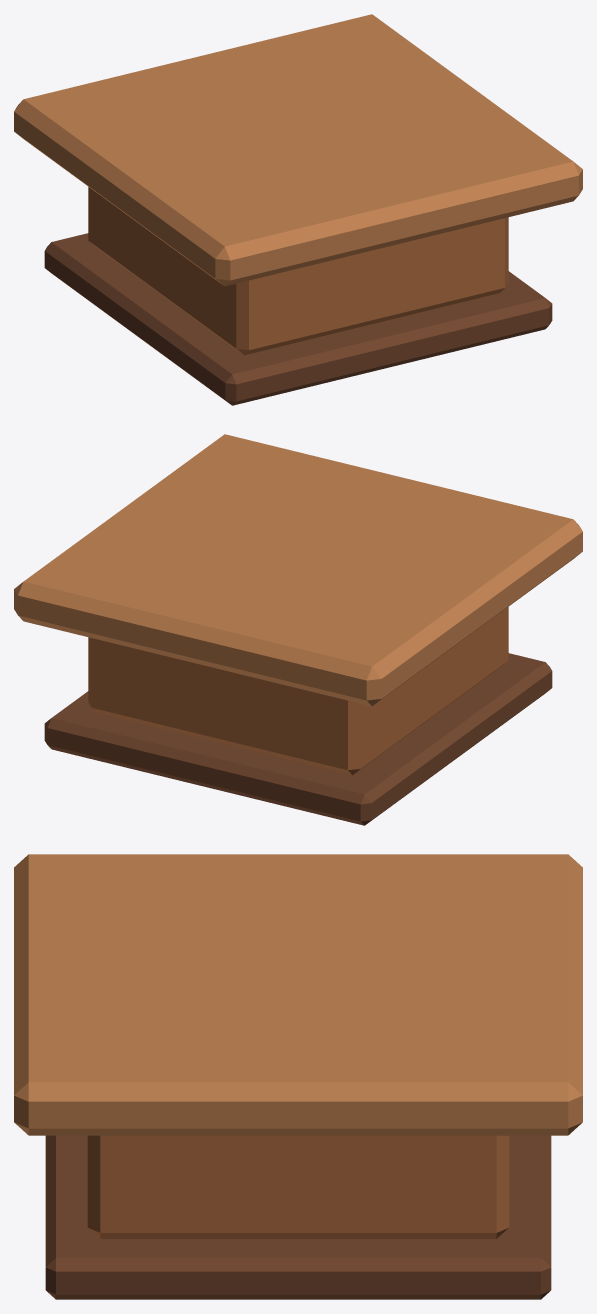
Rendered from Lodge_SpecimenPedestal.fbx.
3 views of the same model, one above another, from view 1: azimuth 30°, elevation 25°; view 2: azimuth 150°, elevation 25°; view 3: azimuth 270°, elevation 25° (orthographic). The views are drawn at different scales.
Visible parts, largest first — view 1: Top, FnWood, FnWoodDark; view 2: Top, FnWood, FnWoodDark; view 3: Top, FnWood, FnWoodDark.
Boxes of the visible parts, x1,y1,x2,y2 form: Top: (14, 14, 582, 286); FnWood: (88, 187, 508, 355); FnWoodDark: (44, 233, 552, 405); Top: (14, 434, 582, 706); FnWood: (88, 607, 508, 775); FnWoodDark: (44, 653, 552, 825); Top: (14, 854, 582, 1135); FnWood: (87, 1135, 509, 1238); FnWoodDark: (45, 1135, 551, 1299).
Bounding box in the file's own units: 2.7 × 1.2 × 2.7.
